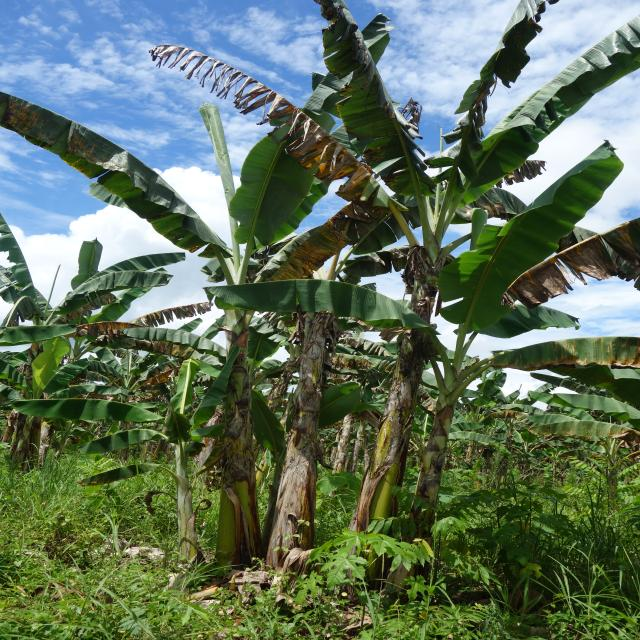Banana-plant: (338, 272, 450, 592), (260, 247, 341, 581), (393, 354, 485, 578), (206, 294, 262, 580)
